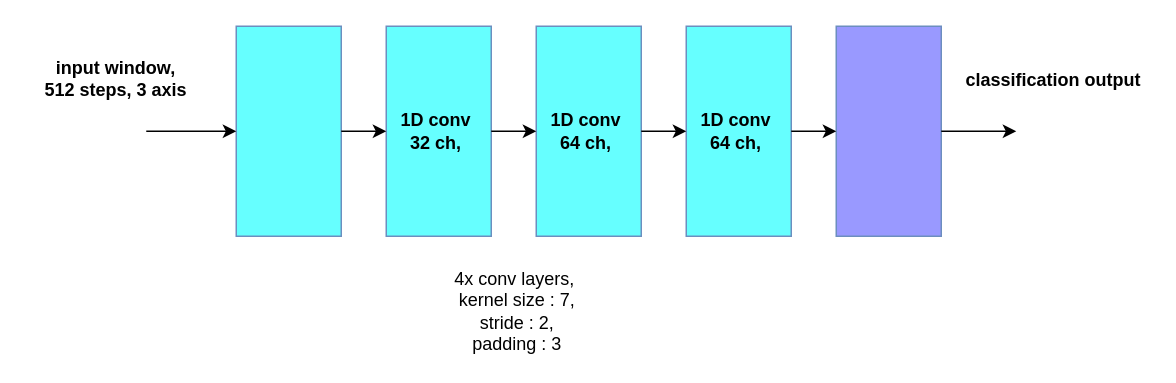
The diagram is 1176 pixels wide and 383 high, and some of its shapes have lost their labels. The shapes that lost their labels are listed below. From the top down, each one's centre as x and y in pixels, then its label:
At (x=288, y=130): "1D conv 16 ch,".
At (x=888, y=130): "fully connected, 7 outputs".
